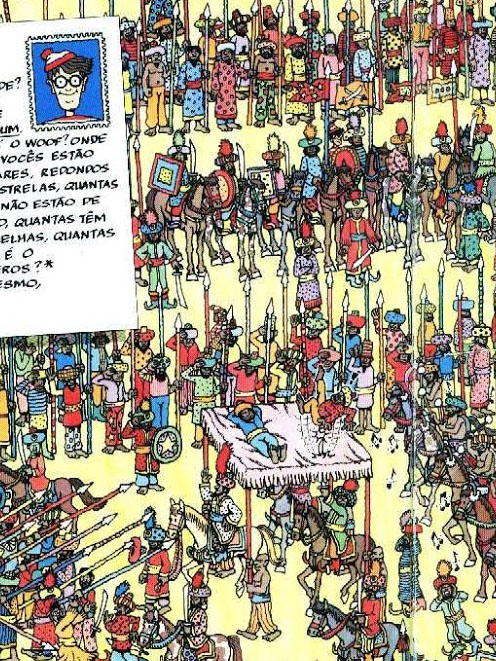waldo: (41, 45, 95, 113), (328, 119, 345, 149)
